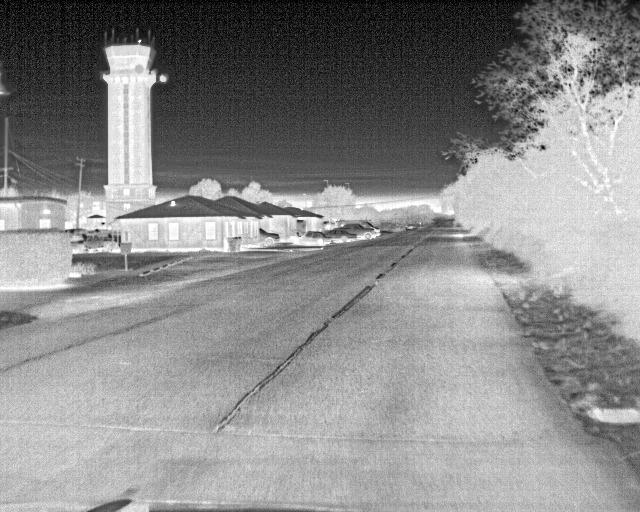car: (290, 230, 326, 247), (319, 228, 354, 244), (339, 223, 375, 238), (258, 225, 281, 245), (358, 219, 379, 236)
